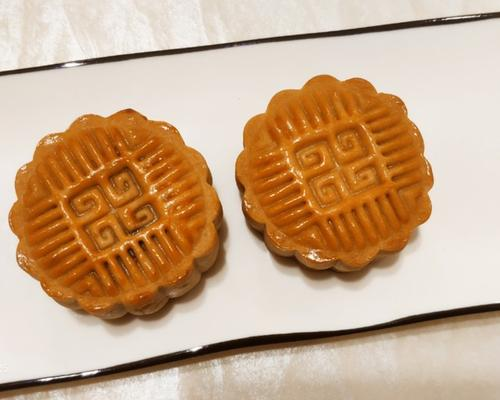MoonCake: (7, 107, 223, 323), (233, 73, 431, 273)
